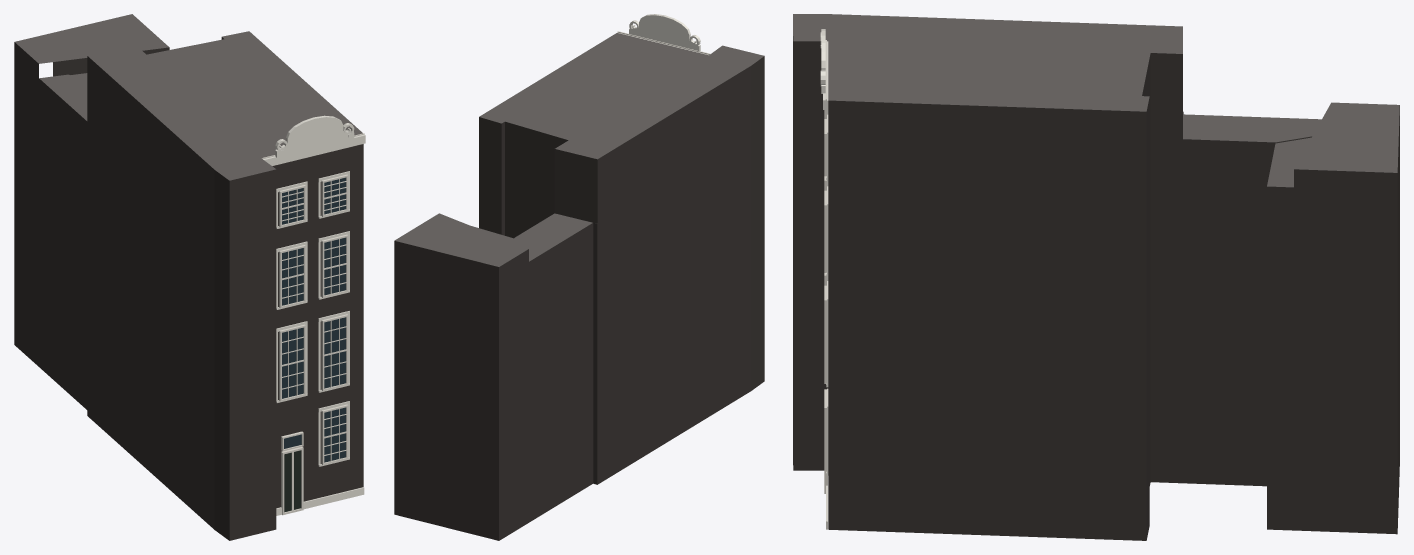
3 renders of one model, left to right at view 1: azimuth 30°, elevation 25°; view 2: azimuth 150°, elevation 25°; view 3: azimuth 270°, elevation 25°, orthographic. The views are drawn at different scales.
Parts seen in each view (by area): view 1: spec-0363100012177430; view 2: spec-0363100012177430; view 3: spec-0363100012177430.
Boxes of the visible parts, x1=… form: spec-0363100012177430: x1=14, y1=14, x2=365, y2=540; spec-0363100012177430: x1=394, y1=14, x2=764, y2=540; spec-0363100012177430: x1=793, y1=14, x2=1399, y2=540.
Bounding box in the file's own units: 7.61 × 16.87 × 19.97.
